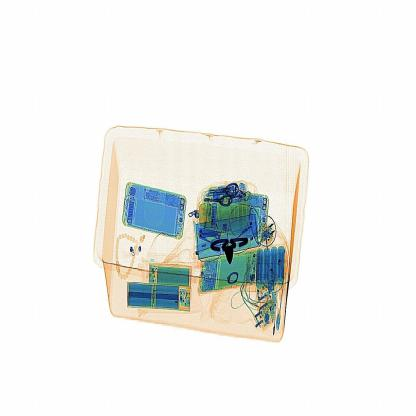gun: (198, 222, 252, 266)
